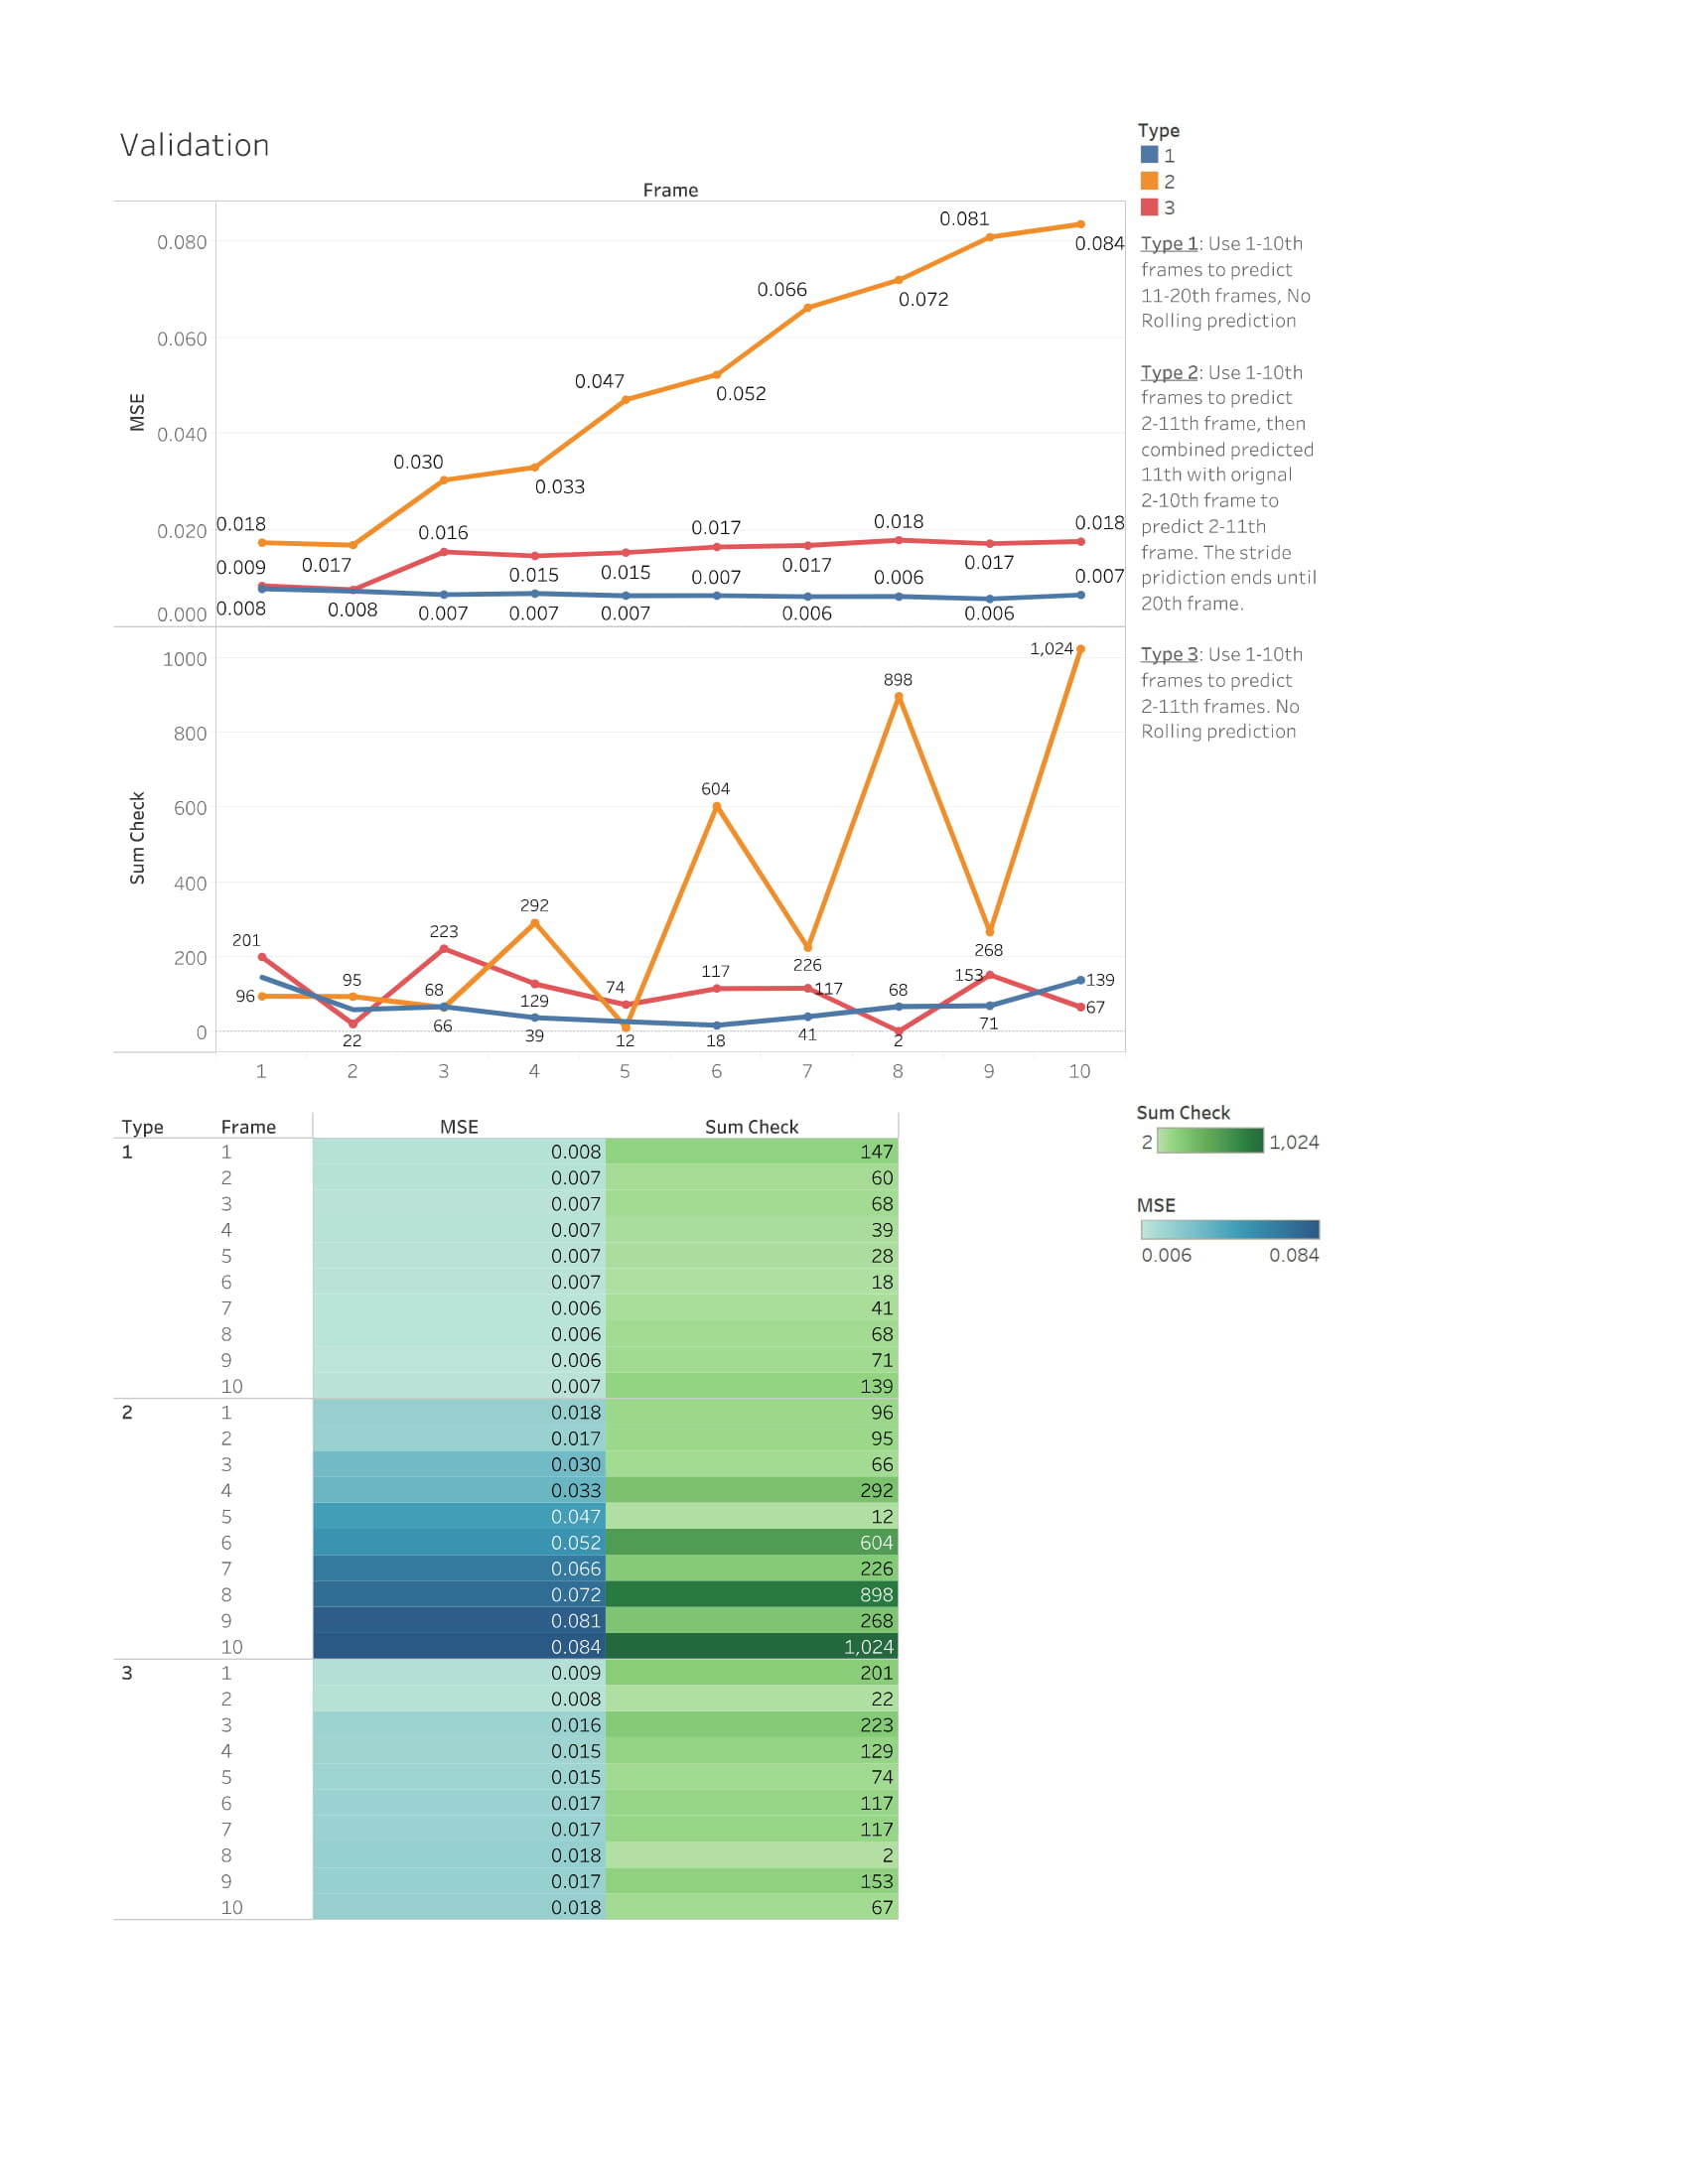

The dashboard page shown, as its layout file describes it:
{"tool":"tableau","page":{"name":"Dashboard 1","canvas":[1000,1600],"ordinal":0},"visuals":[{"type":"worksheet","title":"Validation","mark":"Line","rows":["mse","Calculation_1141662536660291584"],"cols":["frame"],"box":[8,8,824,790.4]},{"type":"legend","title":"Validation","param":"[federated.0n5z2dc1lo2dqd1fcygzv13qc5td].[none:type:nk]","box":[832,8,160,93]},{"type":"text","box":[832,101,160,428]},{"type":"worksheet","title":"Table","mark":"Square","rows":["type","frame"],"box":[8,798.4,824,793.6]},{"type":"legend","title":"Table","param":"[federated.0n5z2dc1lo2dqd1fcygzv13qc5td].[sum:Calculation_1141662536660291584:qk","box":[832,798.4,160,75]},{"type":"legend","title":"Table","param":"[federated.0n5z2dc1lo2dqd1fcygzv13qc5td].[sum:mse:qk]","box":[832,873.4,160,718.6]}]}

Visuals, with their boxes on the page's 1000x1600 design canvas (x1, y1, x2, y2). These are canvas units, not pixel positions in the 1688x2184 screenshot, which may show the page scaled, cropped or inside an application window:
"Validation" worksheet (Line marks): 8/8/832/798
"Validation" legend: 832/8/992/101
text: 832/101/992/529
"Table" worksheet (Square marks): 8/798/832/1592
"Table" legend: 832/798/992/873
"Table" legend: 832/873/992/1592
